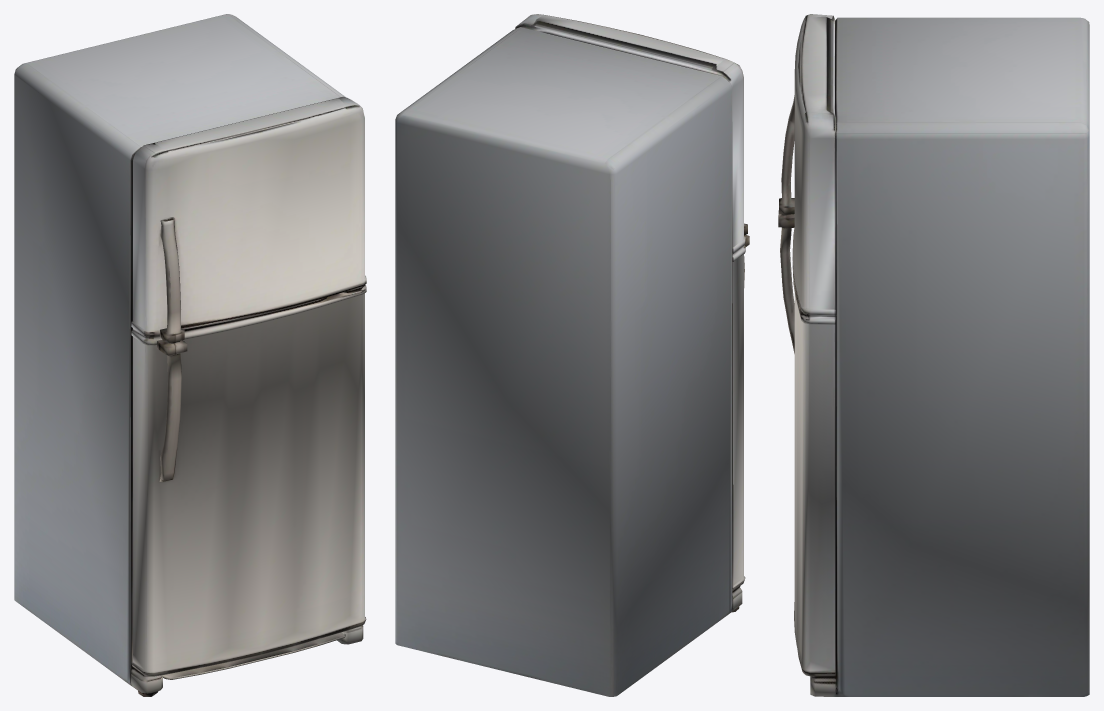
Rendered from Appliances__a_refrigerator_07685752_v2.cluster.glb.
3 renders of one model, left to right at view 1: azimuth 30°, elevation 25°; view 2: azimuth 150°, elevation 25°; view 3: azimuth 270°, elevation 25°, orthographic. The views are drawn at different scales.
Visible parts, largest first — view 1: material; view 2: material; view 3: material.
Part boxes in pixels (bbox=[...]): material: bbox=[14, 14, 366, 696]; material: bbox=[395, 14, 749, 696]; material: bbox=[778, 14, 1089, 696].
Size of the model in its own units: 0.8104 by 1.9 by 0.9236.
1 material, 1 textured.
